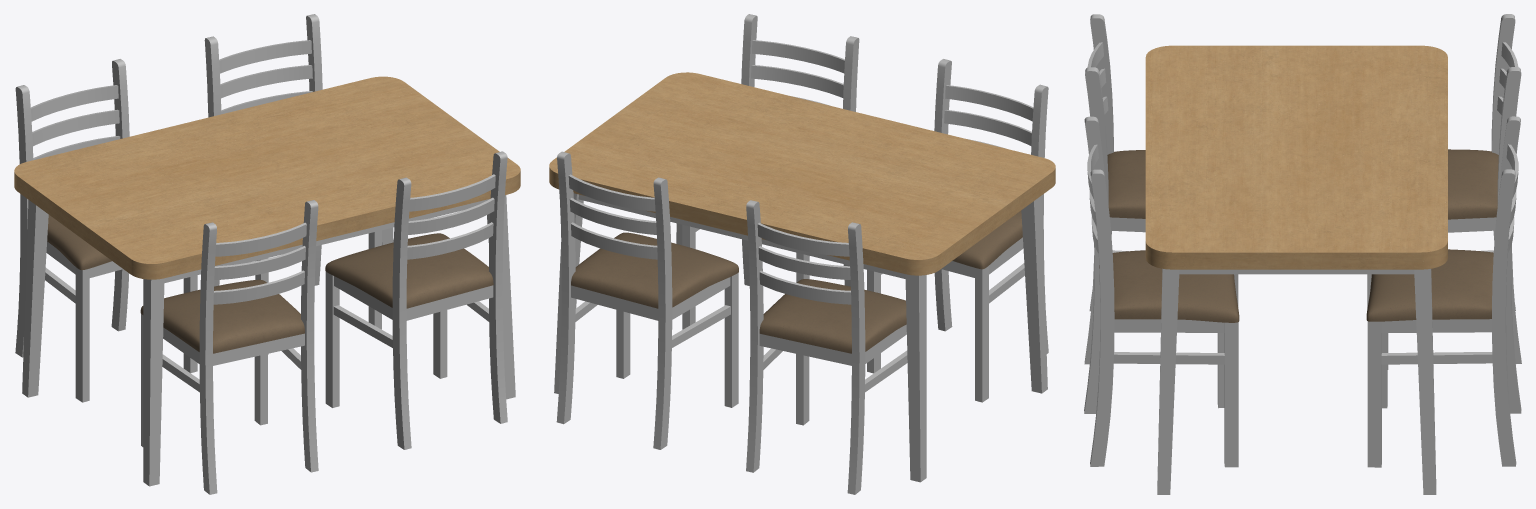
File: Table 1.fbx
The picture shows the model from 3 angles, left to right: view 1: azimuth 30°, elevation 25°; view 2: azimuth 150°, elevation 25°; view 3: azimuth 270°, elevation 25°; orthographic projection. The views are drawn at different scales.
Parts seen in each view (by area): view 1: Cube, Cube.002, Cube.004, Cube.003, Cube.001; view 2: Cube, Cube.001, Cube.003, Cube.004, Cube.002; view 3: Cube, Cube.001, Cube.002, Cube.003, Cube.004.
Boxes of the visible parts, x1,y1,x2,y2 form: Cube: (14, 76, 520, 486); Cube.002: (325, 151, 507, 449); Cube.004: (140, 200, 318, 494); Cube.003: (15, 59, 197, 402); Cube.001: (204, 14, 381, 354); Cube: (549, 72, 1055, 482); Cube.001: (556, 151, 738, 449); Cube.003: (746, 200, 907, 494); Cube.004: (867, 59, 1048, 402); Cube.002: (682, 14, 859, 329); Cube: (1145, 45, 1447, 494); Cube.001: (1366, 116, 1521, 467); Cube.002: (1084, 116, 1239, 467); Cube.003: (1367, 14, 1521, 369); Cube.004: (1084, 14, 1238, 364).
Size of the model in its own units: 130 by 87.88 by 116.
